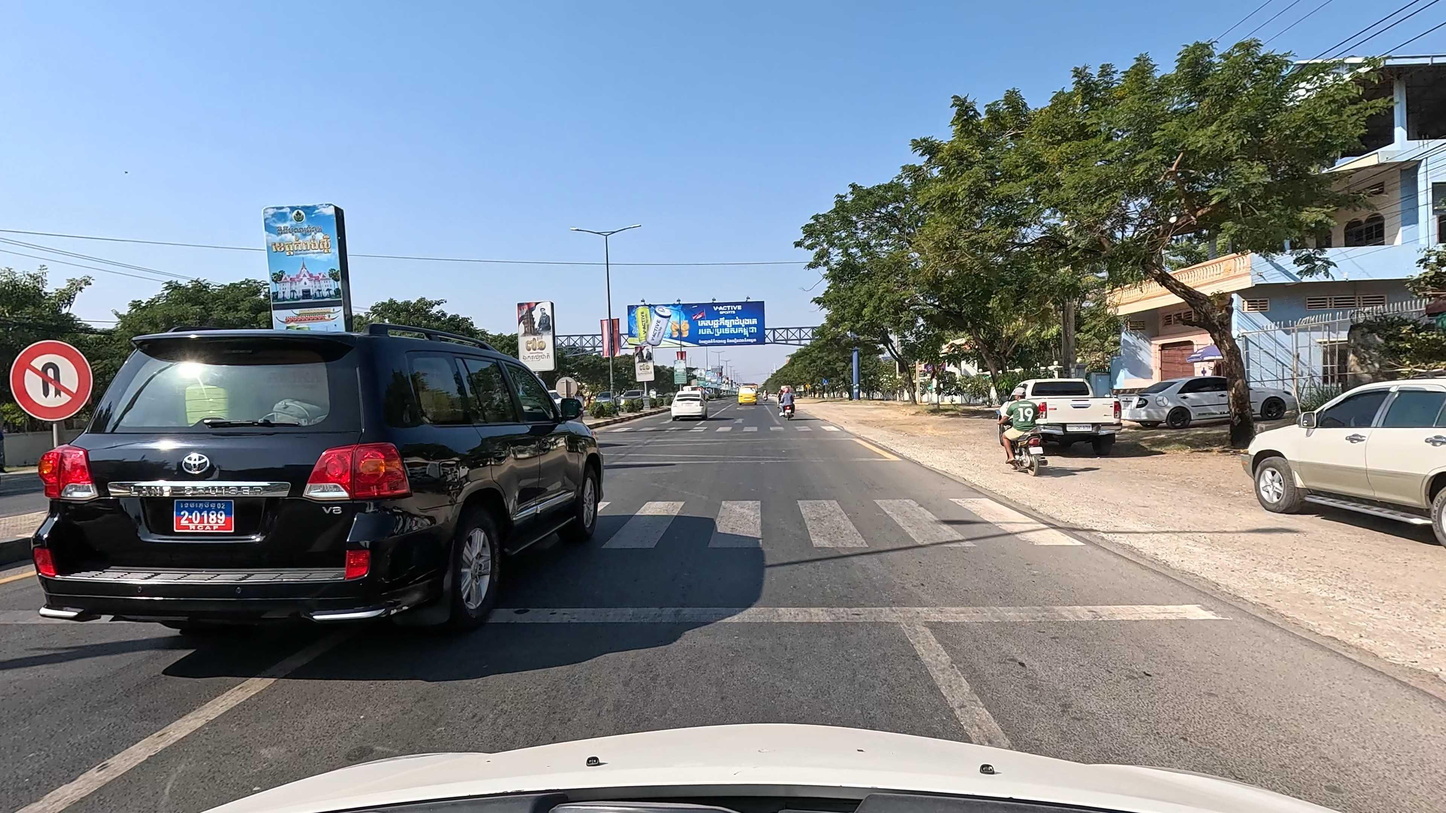no_u_turn: (11, 340, 93, 422)
